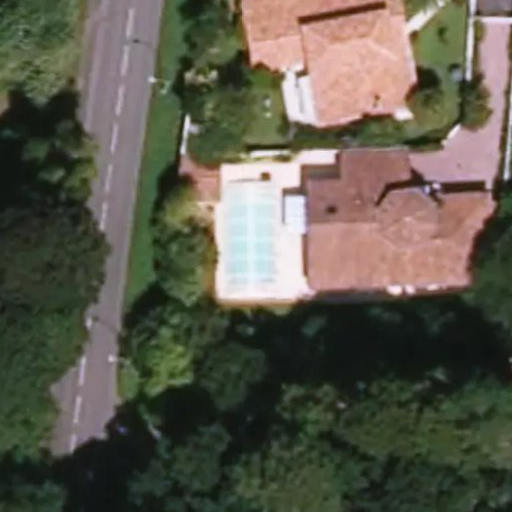pool: (230, 196, 281, 286)
